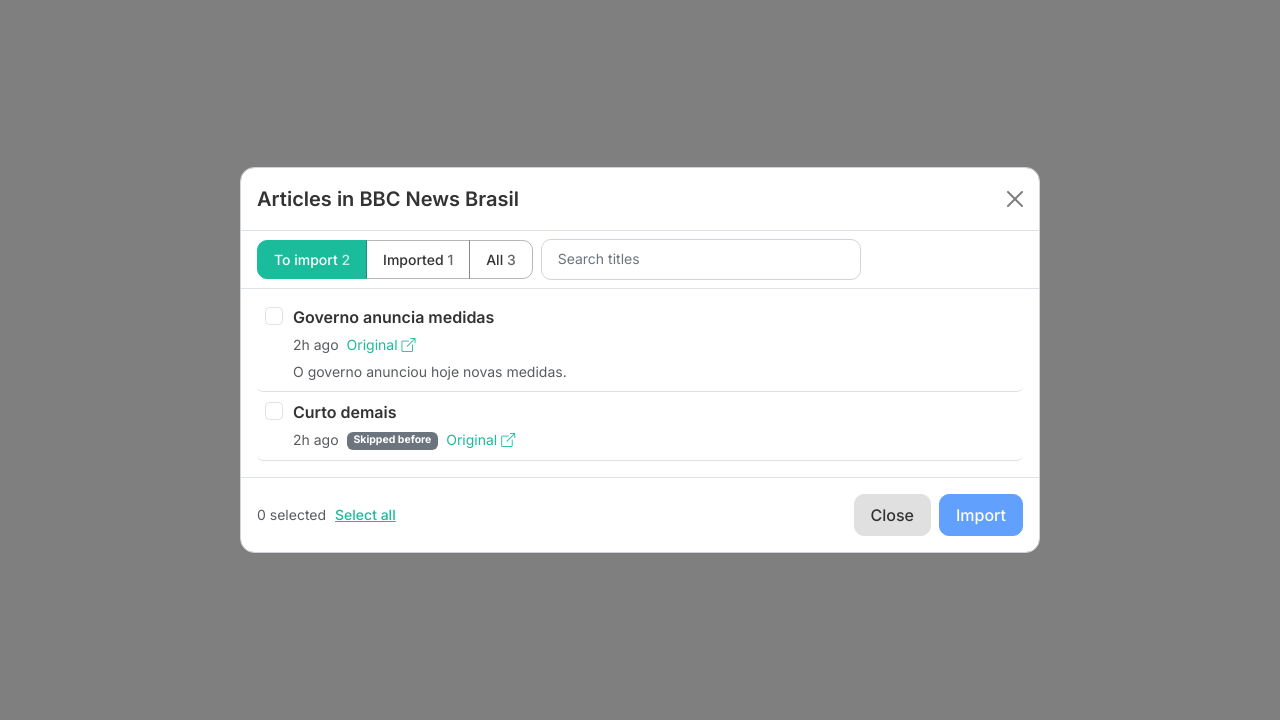
NewsFeedBrowser › searching narrows the list by title and summary, ignoring accents
Expected: the text "Governo anuncia medidas" is shown, [293,306,494,326]
Type "NOVAS MEDIDAS" into the field named "Search the articles" at [701, 259], box [541,239,861,280]
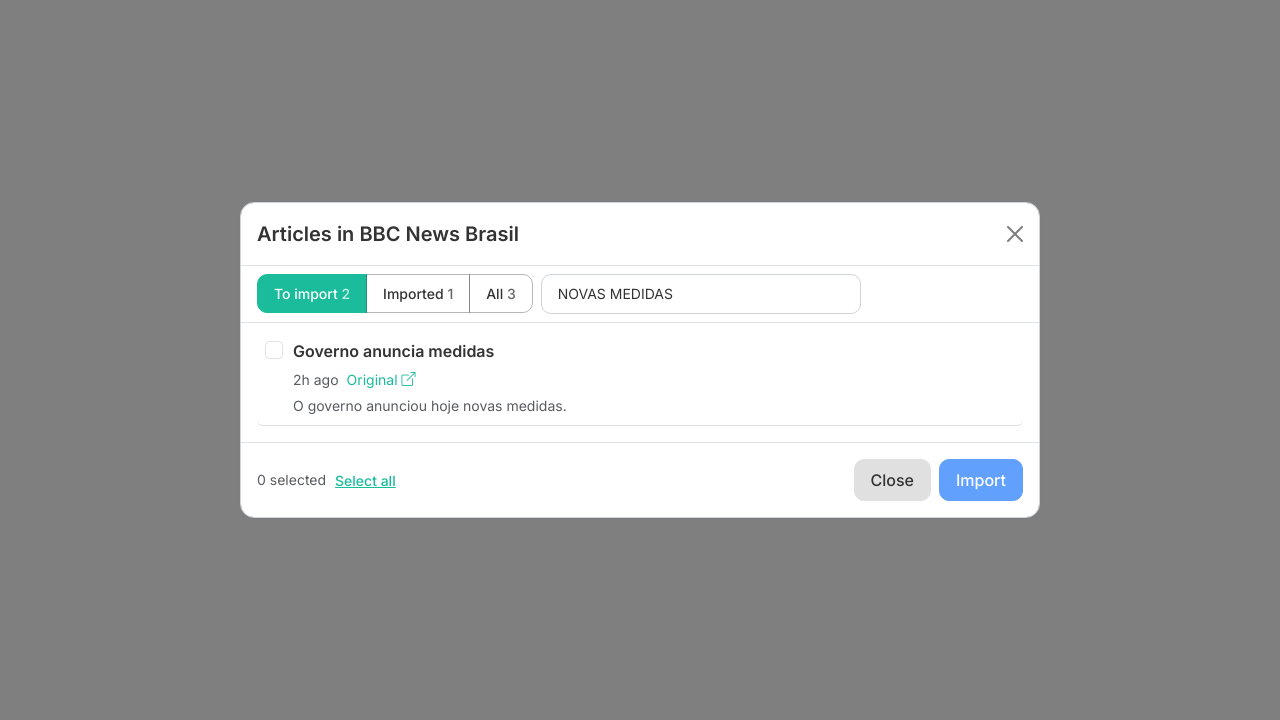
Expected: the text "Governo anuncia medidas" is shown, [293,341,494,361]
Expected: the text "Curto demais" is gone
Replace the text in the field named "Search the articles" with "demáis" at [701, 294], box [541,274,861,314]
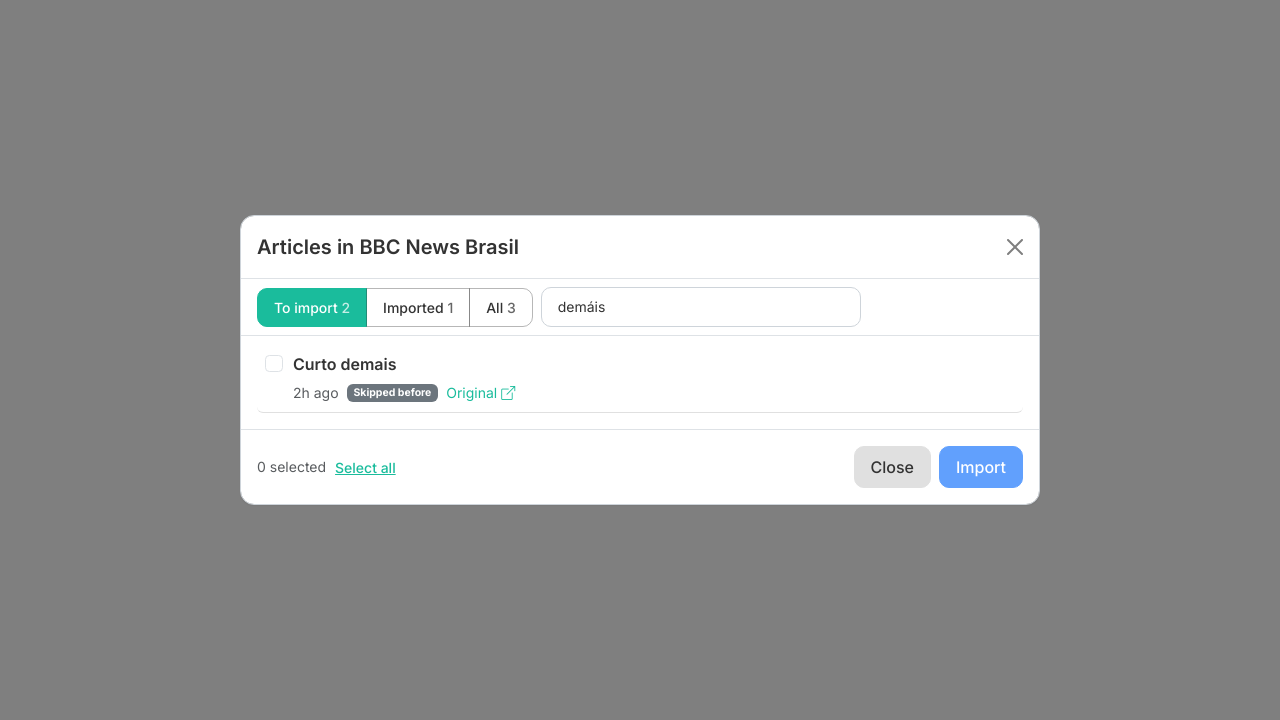
Expected: the text "Curto demais" is shown, [293,354,396,374]
Replace the text in the field named "Search the articles" with "futebol" at [701, 307], box [541,287,861,327]
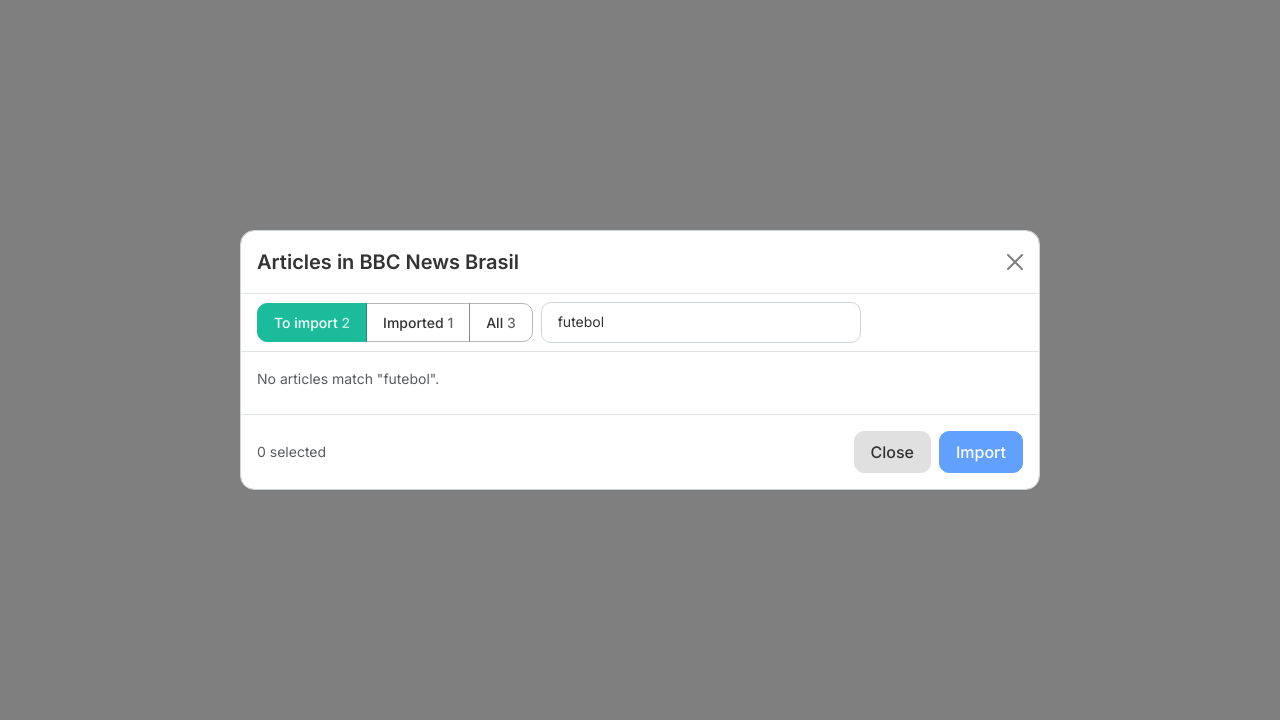
Expected: the text "No articles match \"futebol\"." is shown, [257,370,439,386]
